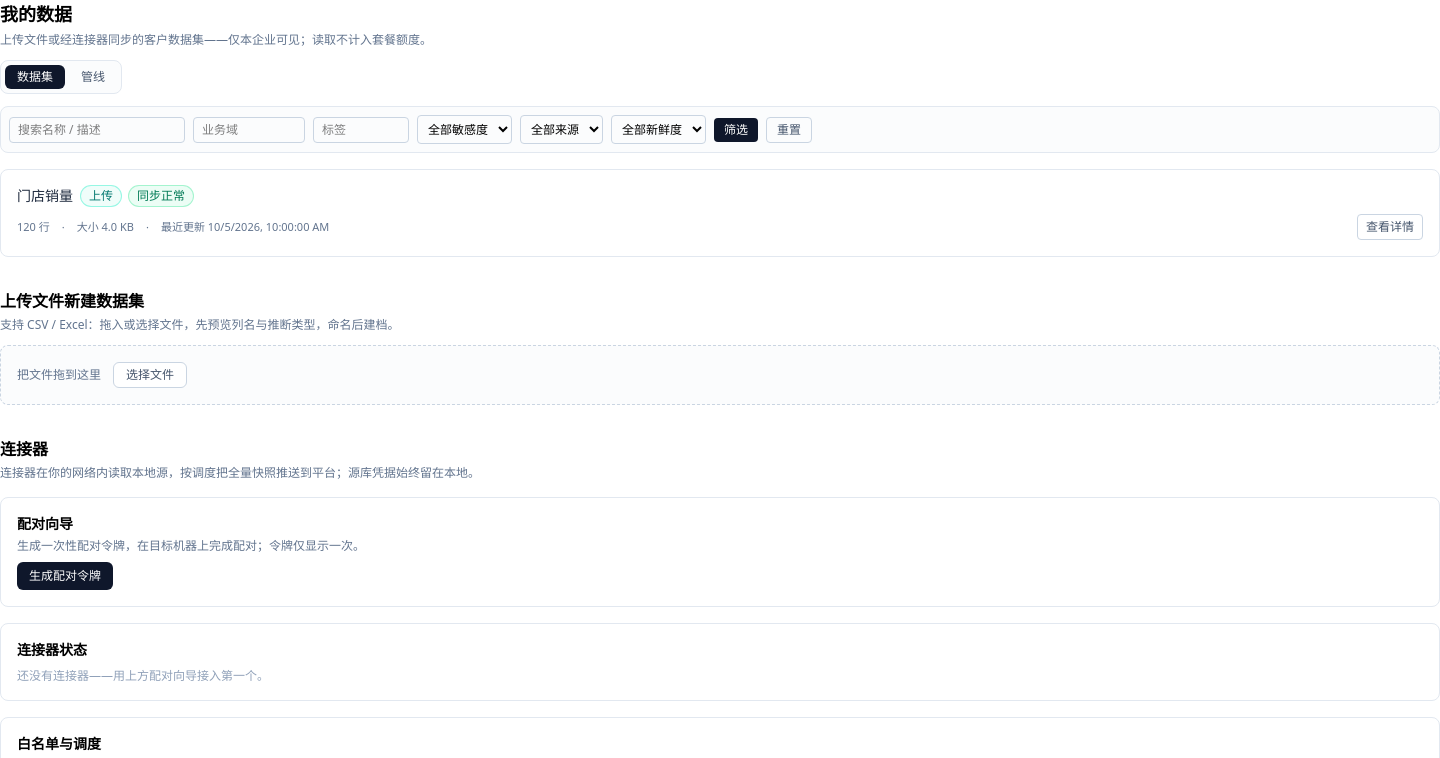
DatasetDetail（预览网格/修正/同步/悬空，任务 3.4） › 删除数据集：取消不动作；确认后发出 DELETE 并回列表刷新
Click the button with test id "dataset-open" at (1390, 227), box [1357, 214, 1423, 240]
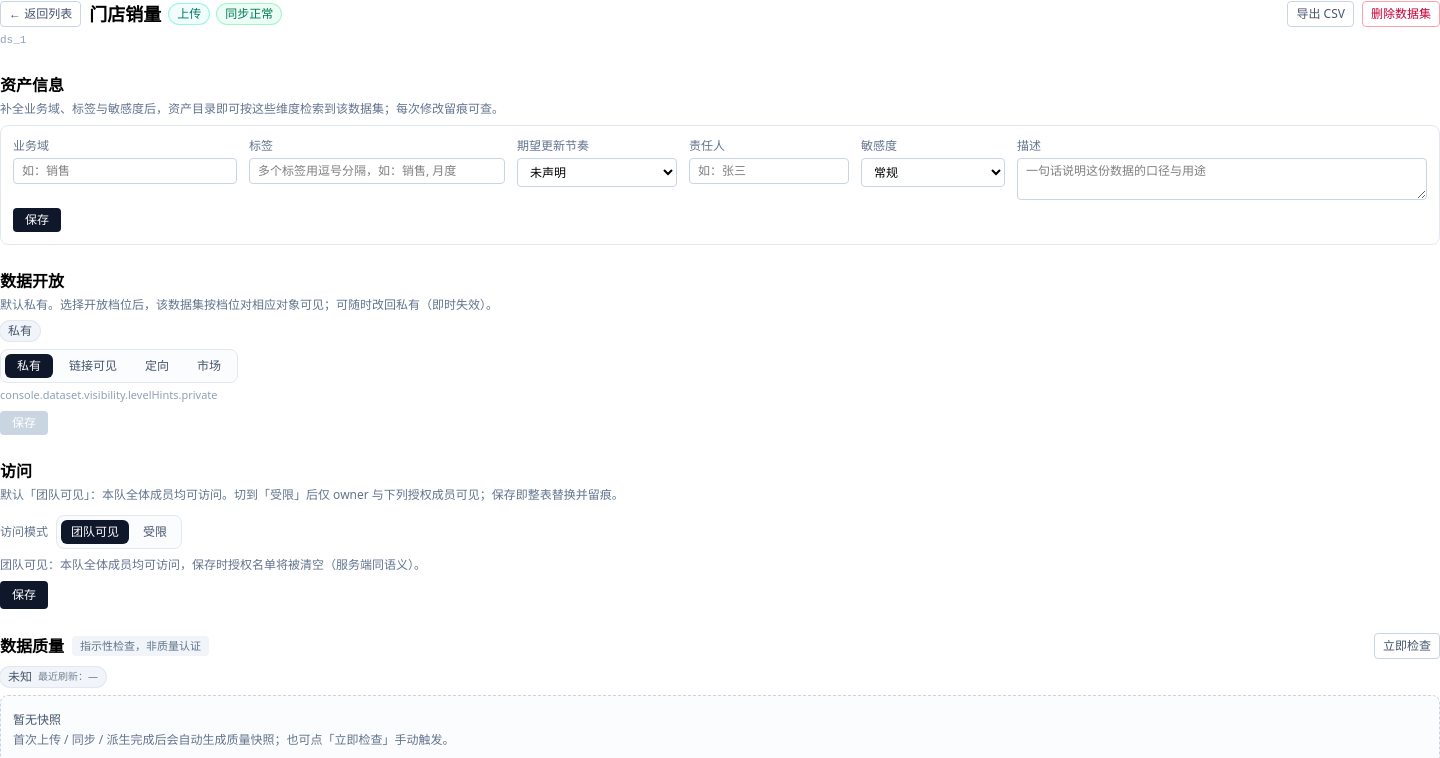
Click the button with test id "detail-delete" at (1401, 14), box [1362, 1, 1439, 27]
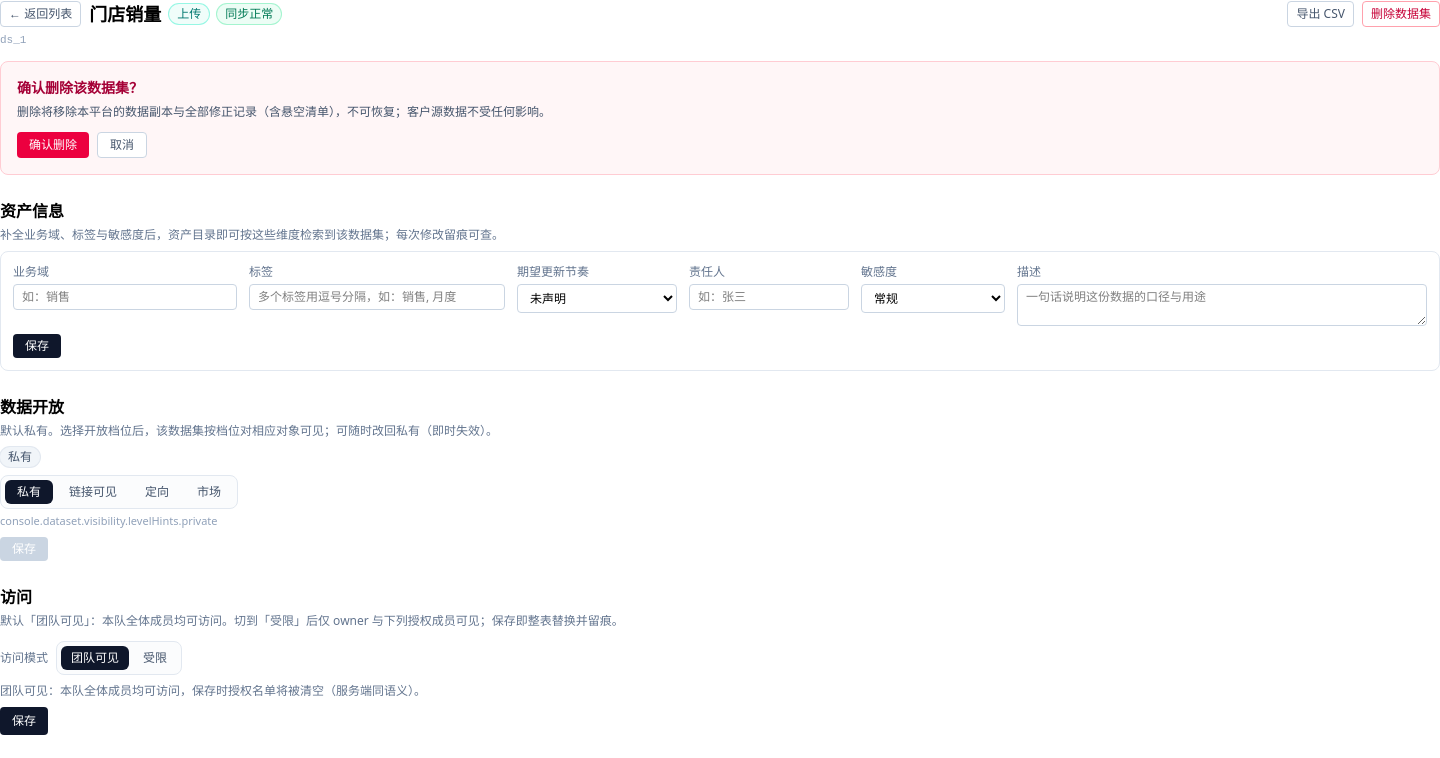
expect the dialog with test id "delete-dialog" shows "客户源数据不受任何影响": met, box [17, 102, 551, 120]
取消：关弹窗、未发任何 DELETE、详情保持
Click the button with test id "delete-cancel" at (122, 144), box [97, 132, 147, 158]
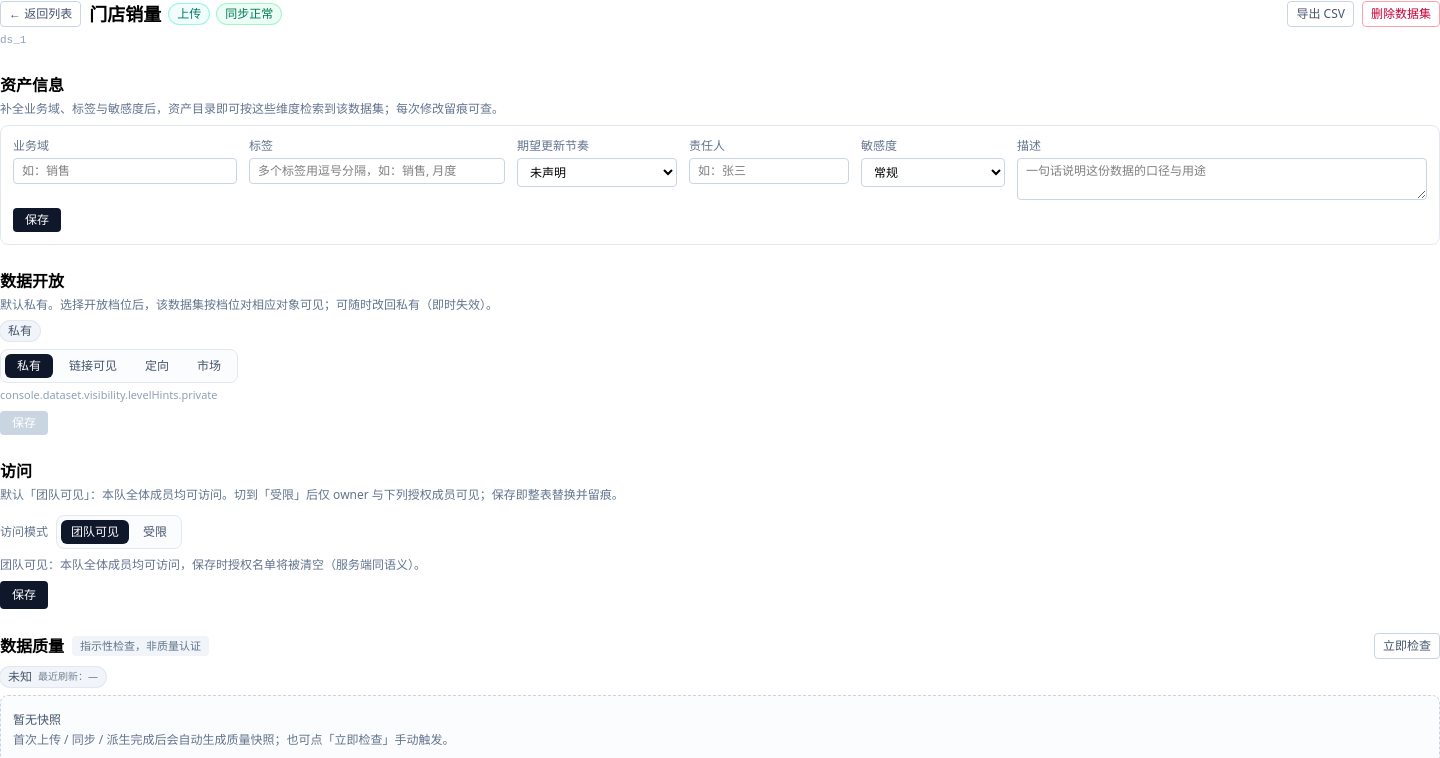
expect the dialog with test id "delete-dialog" is gone: met
确认：DELETE /api/v1/datasets/ds-1，成功后回列表（fake 已删 → 空态）
Click the button with test id "detail-delete" at (1401, 14), box [1362, 1, 1439, 27]
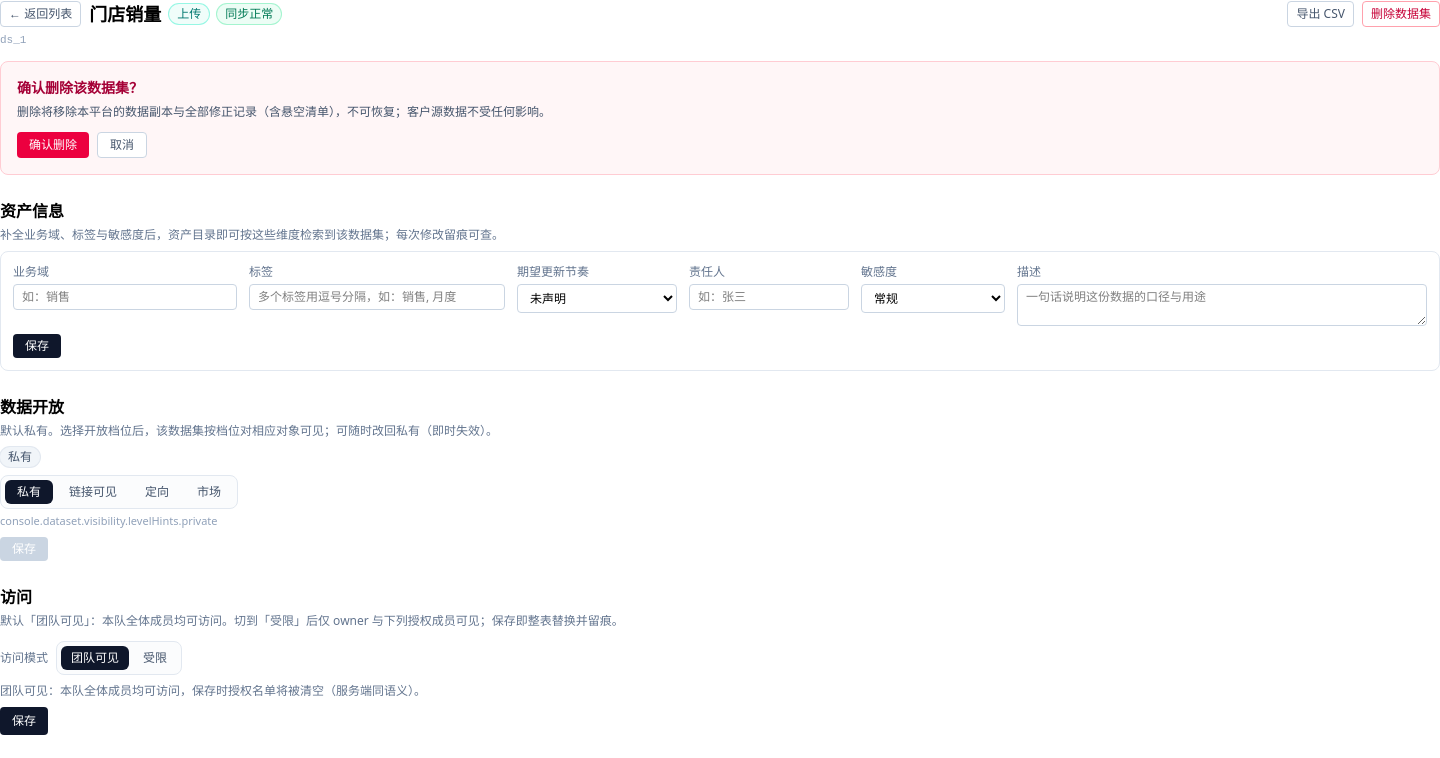
Click the button with test id "delete-confirm" at (53, 144), box [17, 132, 89, 158]
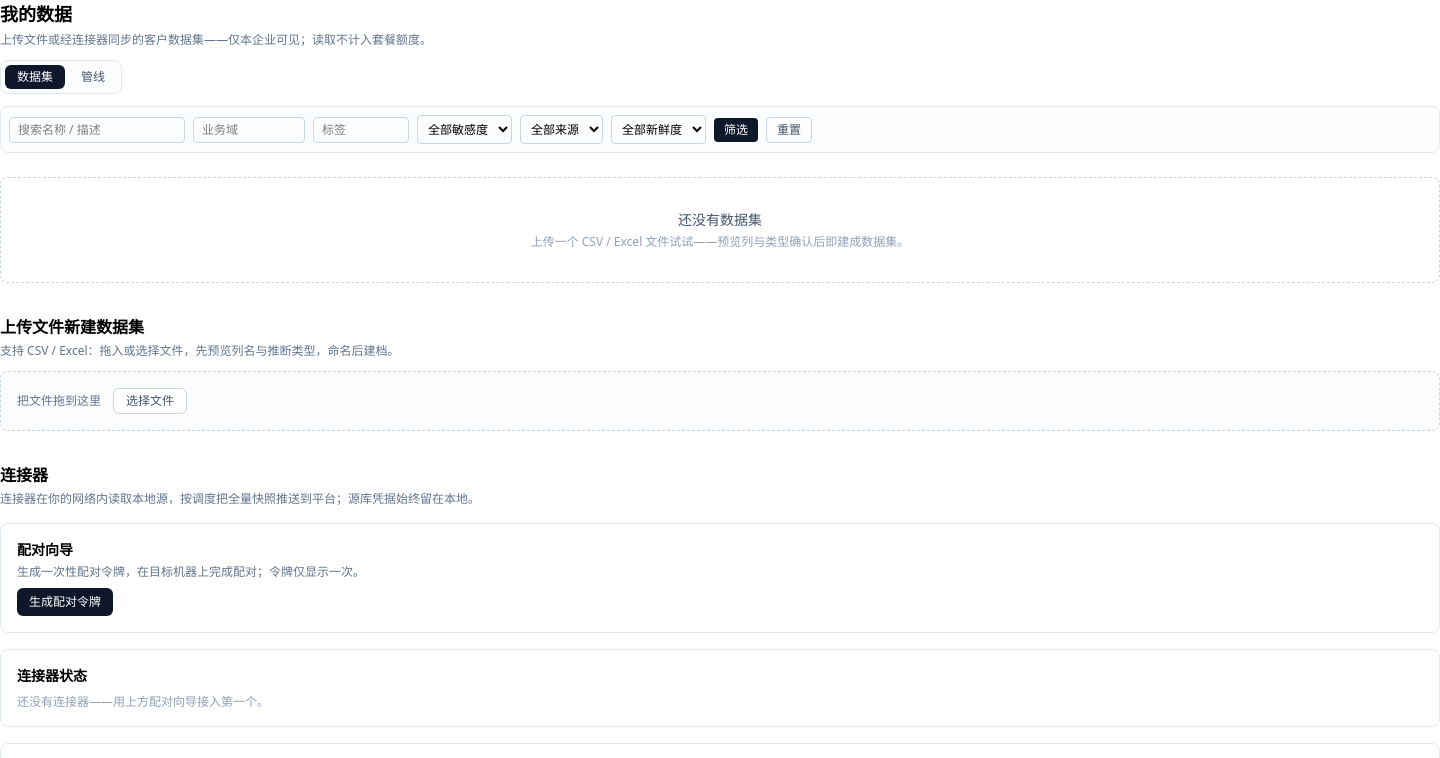
expect the element with test id "datasets-empty" is shown: met, box [0, 177, 1439, 283]
